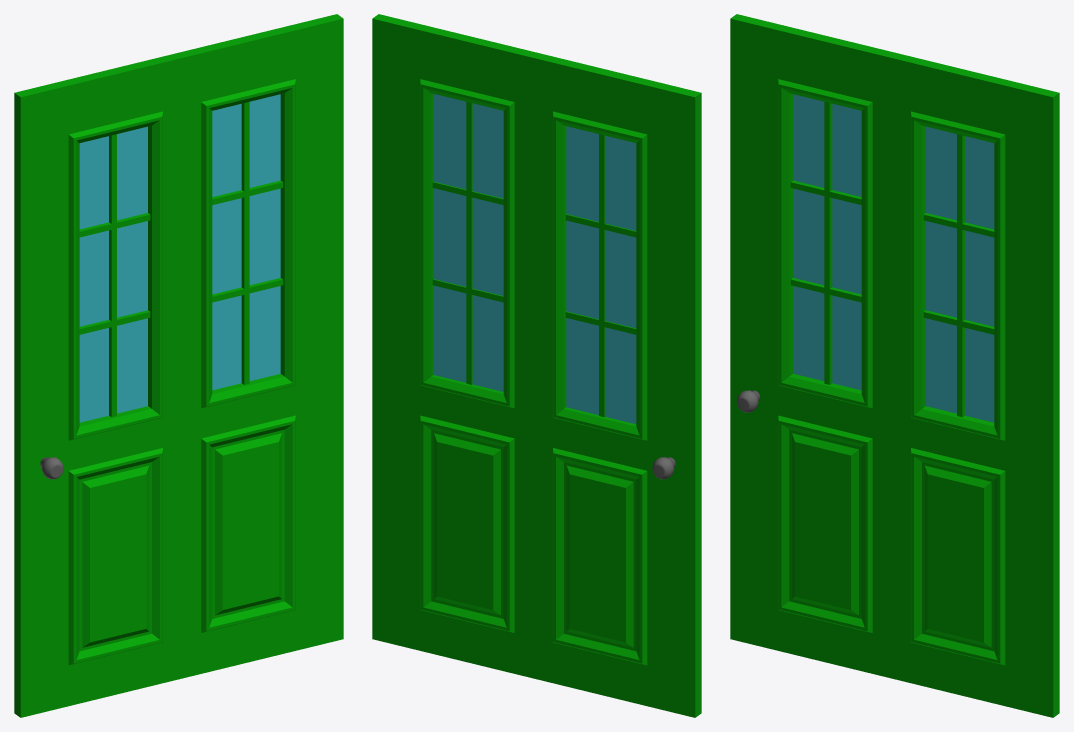
The model's file is Mesh_Door_03.FBX.
3 views of the same model, side by side, from view 1: azimuth 30°, elevation 25°; view 2: azimuth 150°, elevation 25°; view 3: azimuth 330°, elevation 25° (orthographic).
Parts seen in each view (by area): view 1: Mesh_Door_03; view 2: Mesh_Door_03; view 3: Mesh_Door_03.
Part boxes in pixels (x1,y1,x2,y2): Mesh_Door_03: [14, 14, 343, 717]; Mesh_Door_03: [372, 14, 701, 717]; Mesh_Door_03: [730, 14, 1059, 717].
Bounding box in the file's own units: 118 × 217 × 19.06.
